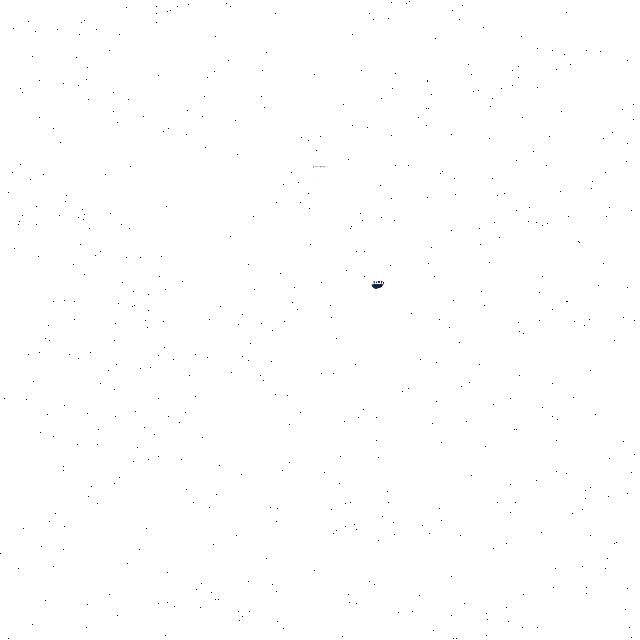dress: (85, 112, 554, 515)
